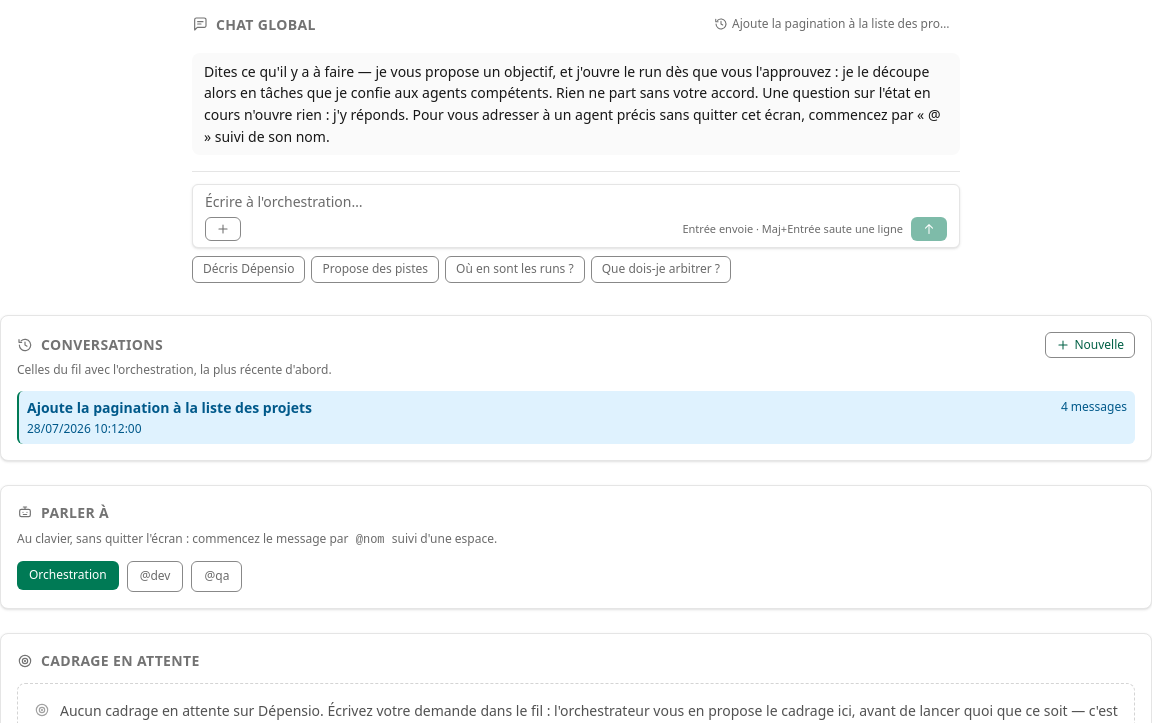
Scenario: le chat global (#269) › revient à l'orchestration sans quitter l'écran
Step 1. Type "@qa " into the text box with placeholder "Écrire à l'orchestration…" → (576, 202), box [205,191,947,213]
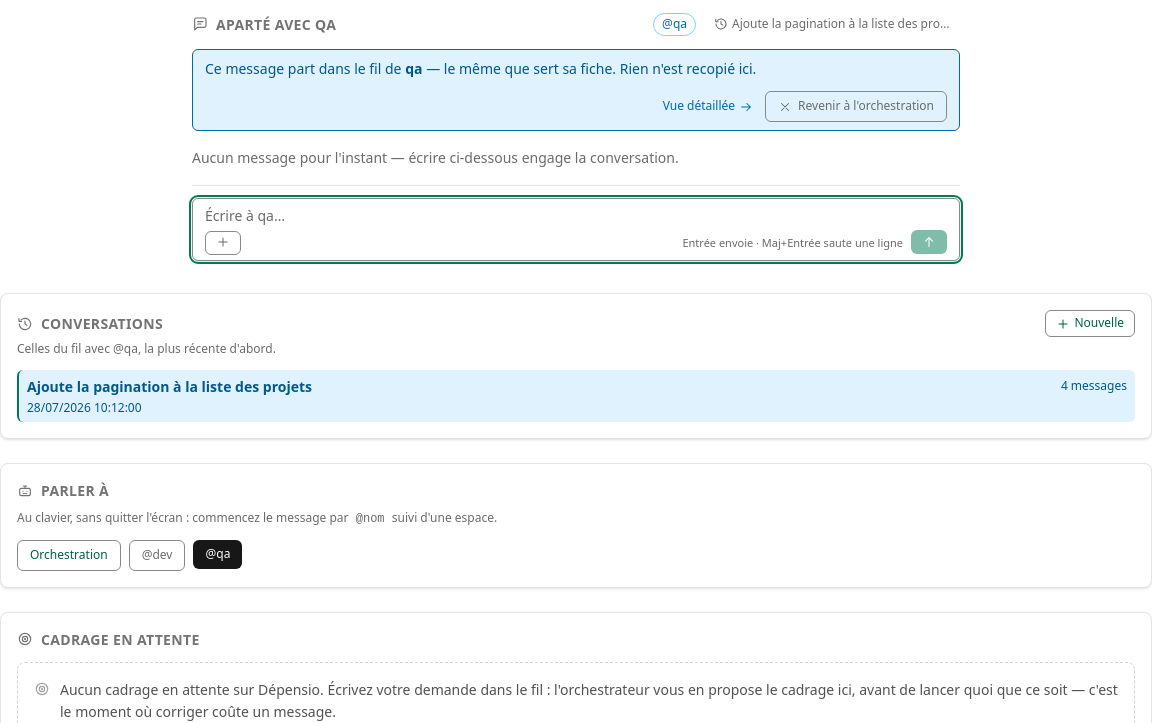
Step 2. Click the button "Revenir à l'orchestration" → (856, 107), box [765,91,947,122]
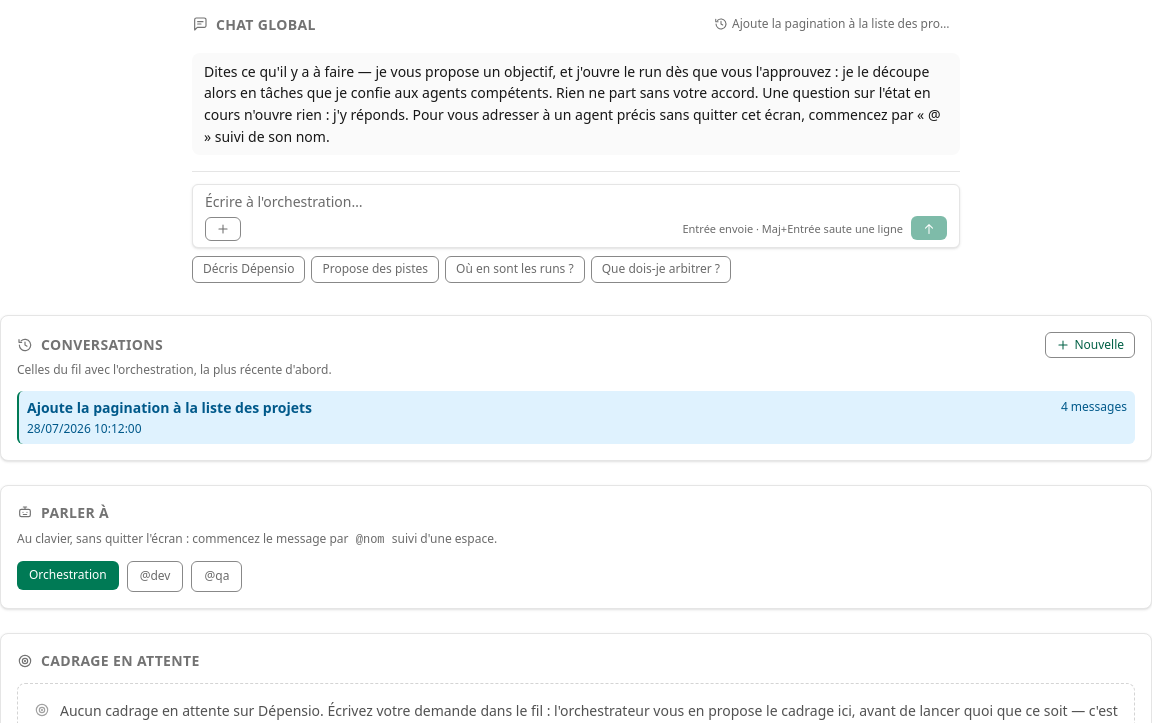
expect the text "Rien n'est recopié ici" is gone: met
